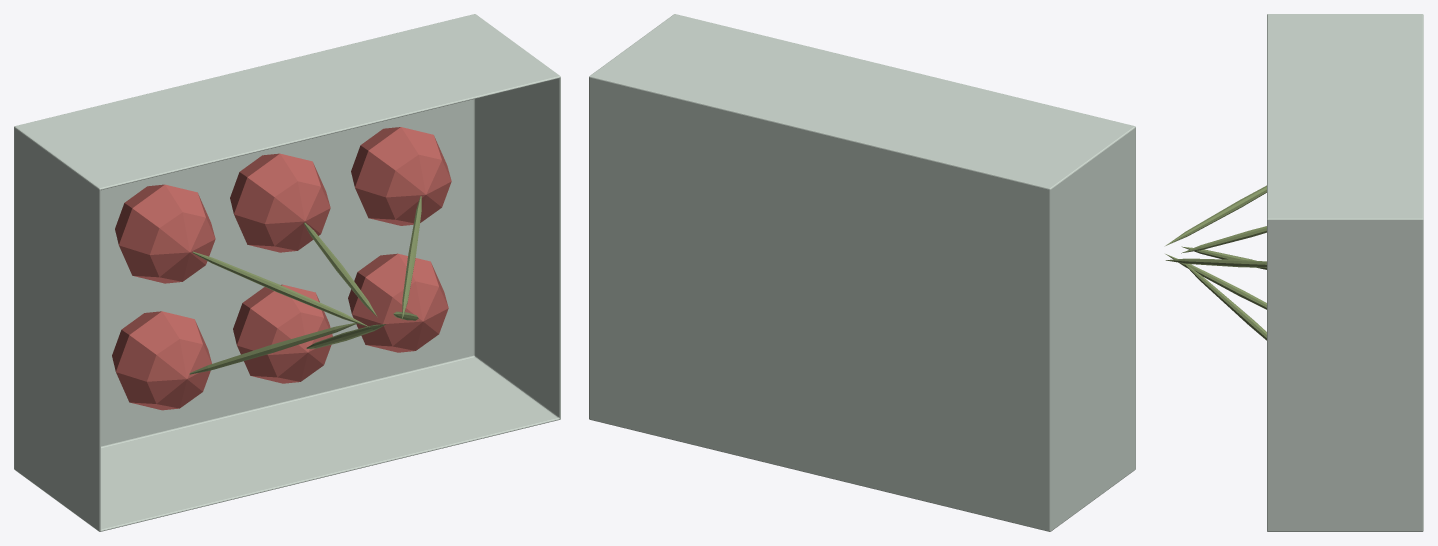
The model's file is Cherries_Box.glb.
The picture shows the model from 3 angles, left to right: view 1: azimuth 30°, elevation 25°; view 2: azimuth 150°, elevation 25°; view 3: azimuth 270°, elevation 25°; orthographic projection. The views are drawn at different scales.
Parts seen in each view (by area): view 1: Cherries_Box; view 2: Cherries_Box; view 3: Cherries_Box.
Part boxes in pixels (x1,y1,x2,y2): Cherries_Box: (14,14,560,531); Cherries_Box: (589,14,1135,531); Cherries_Box: (1165,14,1423,531).
Bounding box in the file's own units: 0.09 × 0.064 × 0.048.
